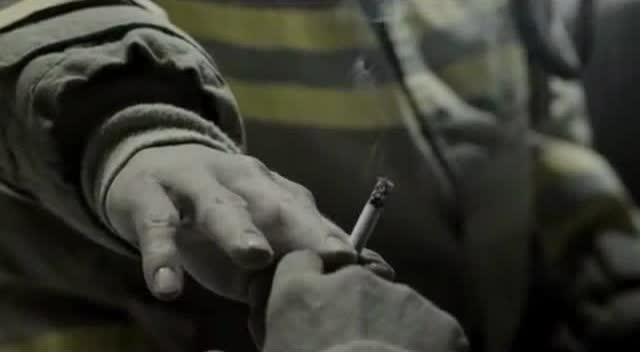Cigarette: (346, 174, 394, 250)
